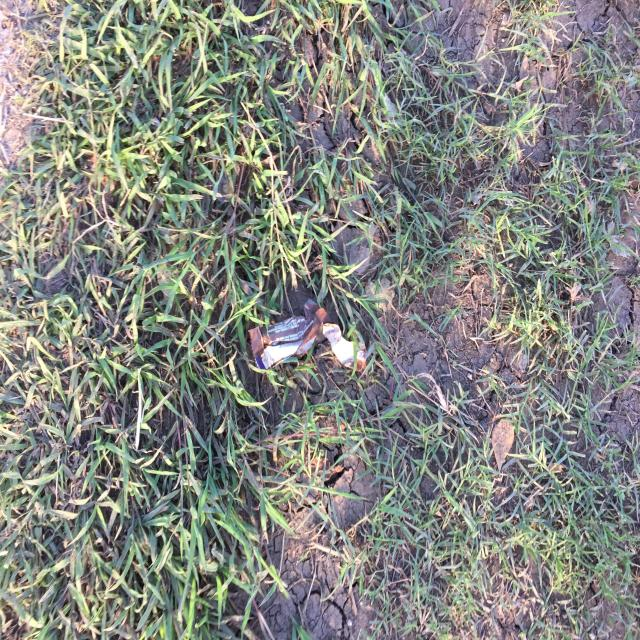litter: (253, 305, 321, 375)
